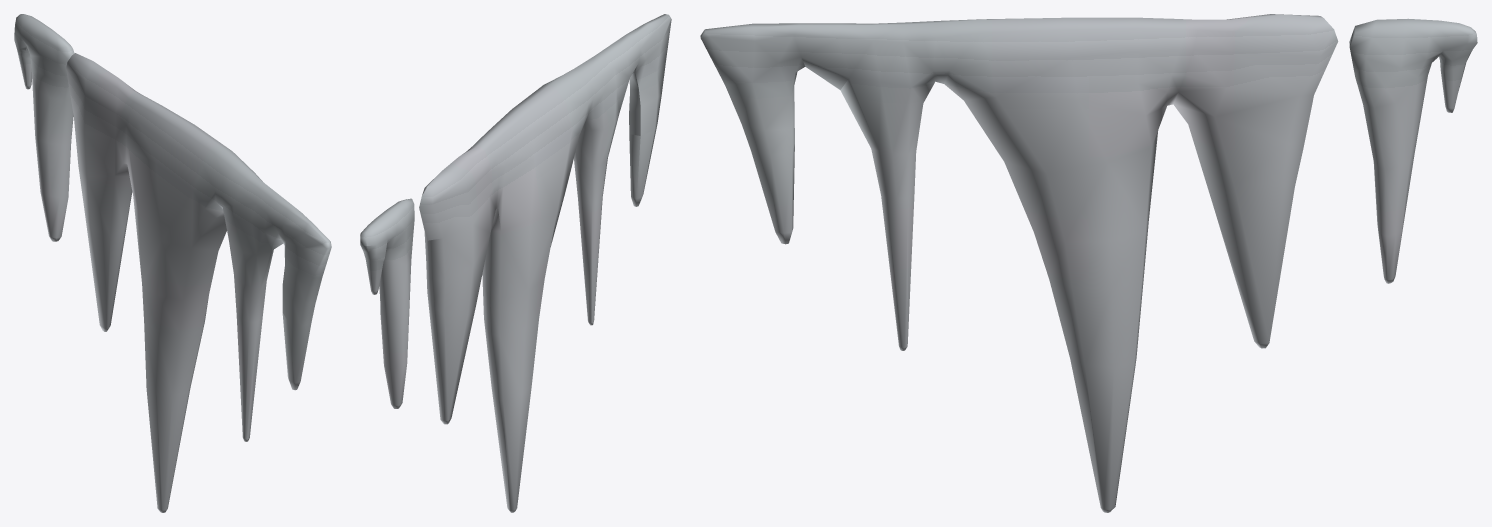
The picture shows the model from 3 angles, left to right: view 1: azimuth 30°, elevation 25°; view 2: azimuth 150°, elevation 25°; view 3: azimuth 270°, elevation 25°; orthographic projection. The views are drawn at different scales.
Visible parts, largest first — view 1: body0_model0_lod0_mesh0; view 2: body0_model0_lod0_mesh0; view 3: body0_model0_lod0_mesh0.
Part boxes in pixels (x1,y1,x2,y2): body0_model0_lod0_mesh0: (14, 14, 331, 512); body0_model0_lod0_mesh0: (360, 14, 671, 512); body0_model0_lod0_mesh0: (700, 14, 1477, 512).
Bounding box in the file's own units: 2.51 × 17.26 × 24.41.
1 material, 1 textured.
